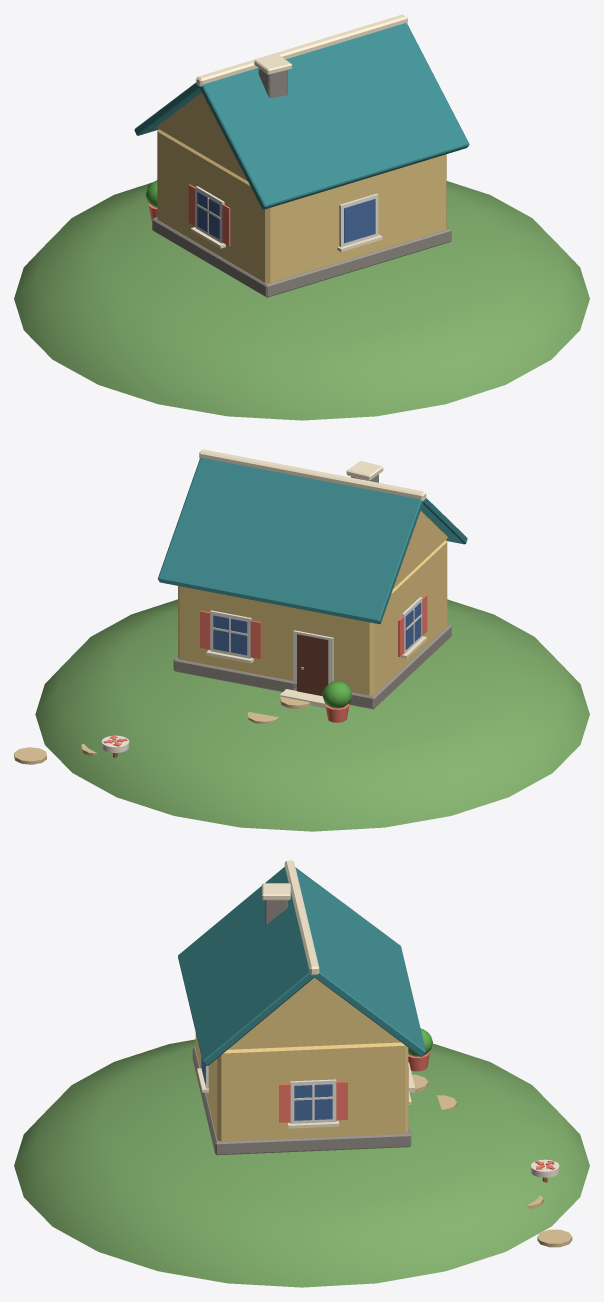
The model's file is bld_d3_a.glb.
3 renders of one model, top to bottom at view 1: azimuth 30°, elevation 25°; view 2: azimuth 150°, elevation 25°; view 3: azimuth 270°, elevation 25°, orthographic. The views are drawn at different scales.
Parts seen in each view (by area): view 1: bld_d3_a; view 2: bld_d3_a; view 3: bld_d3_a.
Boxes of the visible parts, <box> form: bld_d3_a: <box>14,14,589,420</box>; bld_d3_a: <box>14,449,589,831</box>; bld_d3_a: <box>14,860,589,1287</box>.
Bounding box in the file's own units: 18 × 8.85 × 18.
